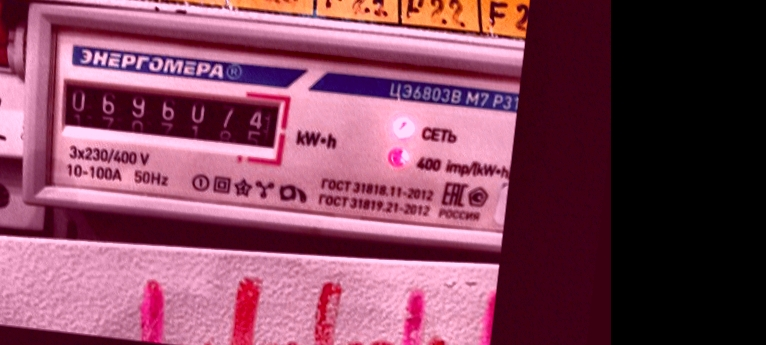0: (66, 84, 88, 110), (187, 96, 206, 123)
4: (245, 103, 264, 127)
5: (244, 128, 262, 145)
6: (158, 93, 178, 121), (98, 88, 117, 114)
7: (217, 101, 237, 128)
9: (127, 91, 146, 118)
screen: (47, 64, 293, 160)
